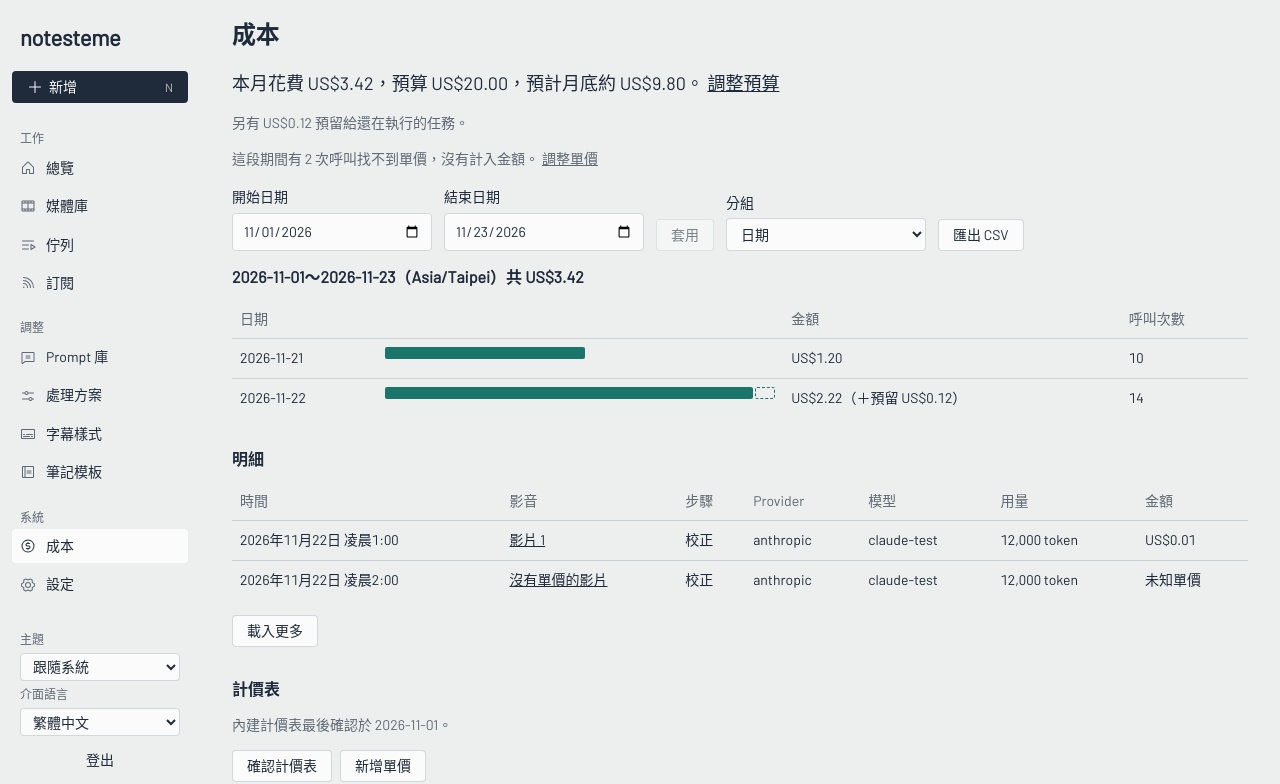
Test: 成本頁 › 明細依 cursor 載入下一頁
Expected: the link "影片 1" is shown, [510,531,545,548]
Click the button "載入更多" at (275, 631), box [232,615,318,647]
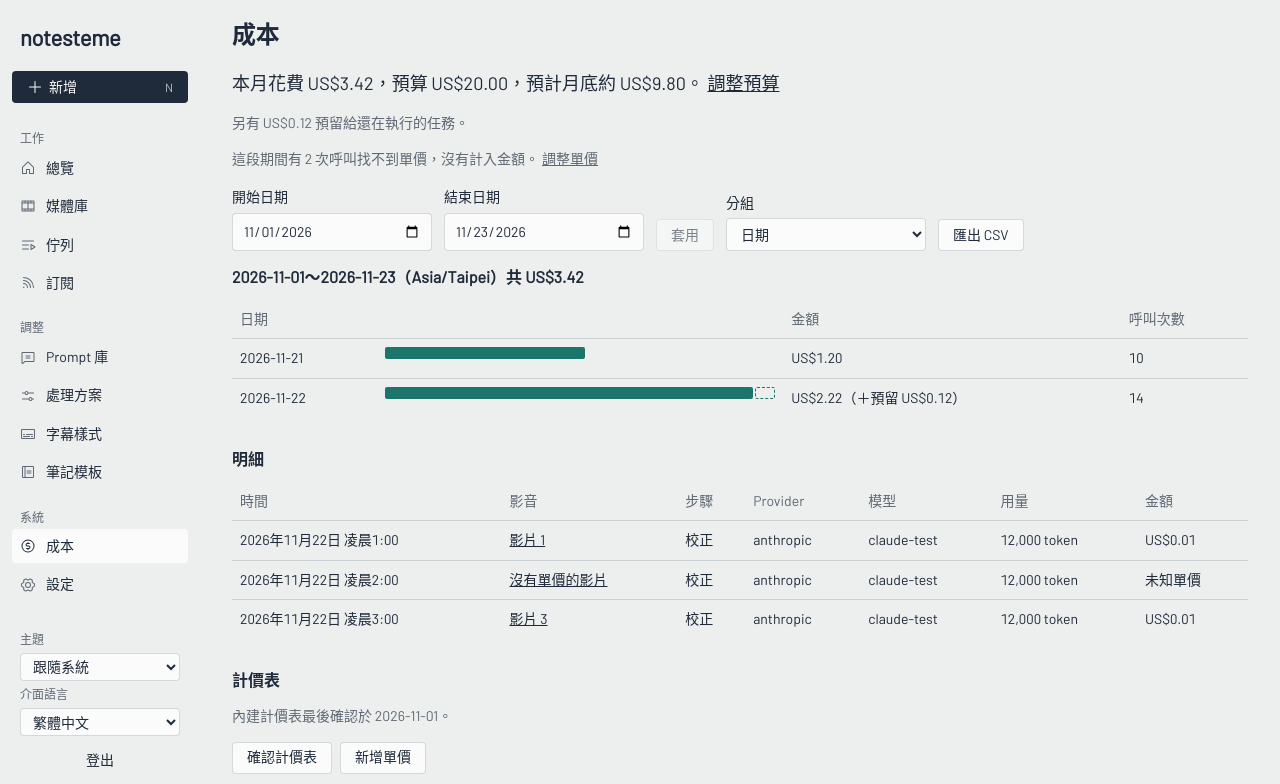
Expected: the link "影片 3" is shown, [510,610,548,627]
Expected: the button "載入更多" is gone
